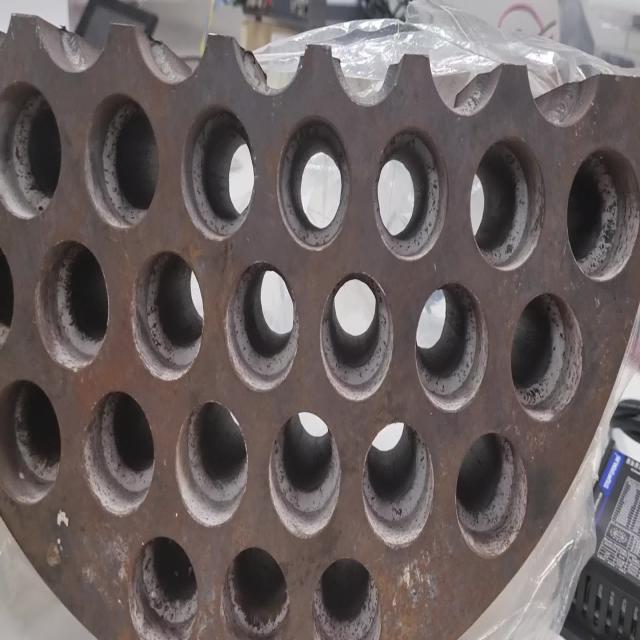Hole: (181, 103, 256, 241), (83, 92, 158, 229), (373, 124, 448, 260), (469, 136, 545, 270), (277, 114, 351, 251), (566, 146, 640, 282), (35, 238, 109, 372), (224, 260, 299, 392), (130, 249, 204, 381), (510, 291, 584, 423), (321, 270, 394, 402), (455, 428, 529, 558), (82, 388, 156, 518), (415, 281, 488, 412), (268, 410, 342, 539), (175, 400, 249, 527), (362, 420, 434, 550), (1, 81, 62, 220), (1, 376, 62, 505), (128, 534, 200, 640), (219, 544, 290, 640), (313, 556, 382, 640)
